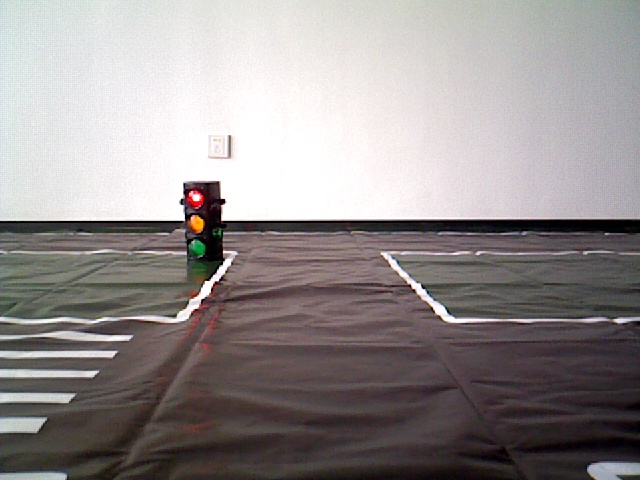red: (186, 183, 218, 262)
